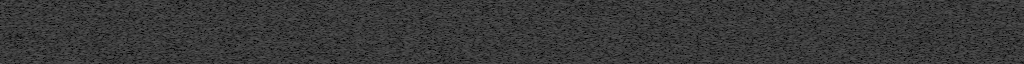wv_am: (731, 0, 735, 64)
wv_lsb: (293, 25, 298, 36)
wv_wbfm: (207, 0, 221, 64)
